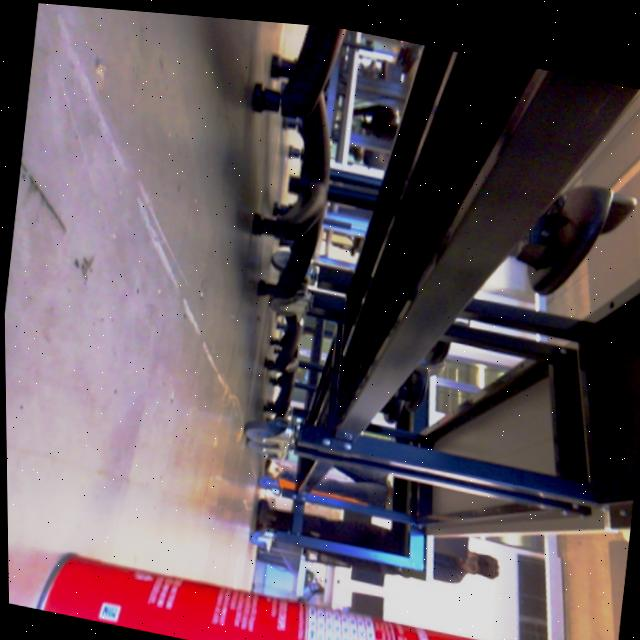redpringles: (19, 509, 552, 640)
